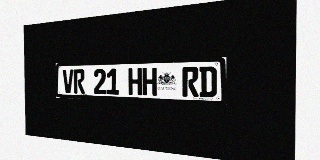1: (106, 68, 119, 95)
2: (94, 69, 106, 94)
D: (199, 66, 217, 97)
H: (142, 68, 157, 96), (128, 68, 142, 95)
R: (182, 67, 199, 97), (74, 69, 85, 94)
V: (63, 69, 73, 93)
